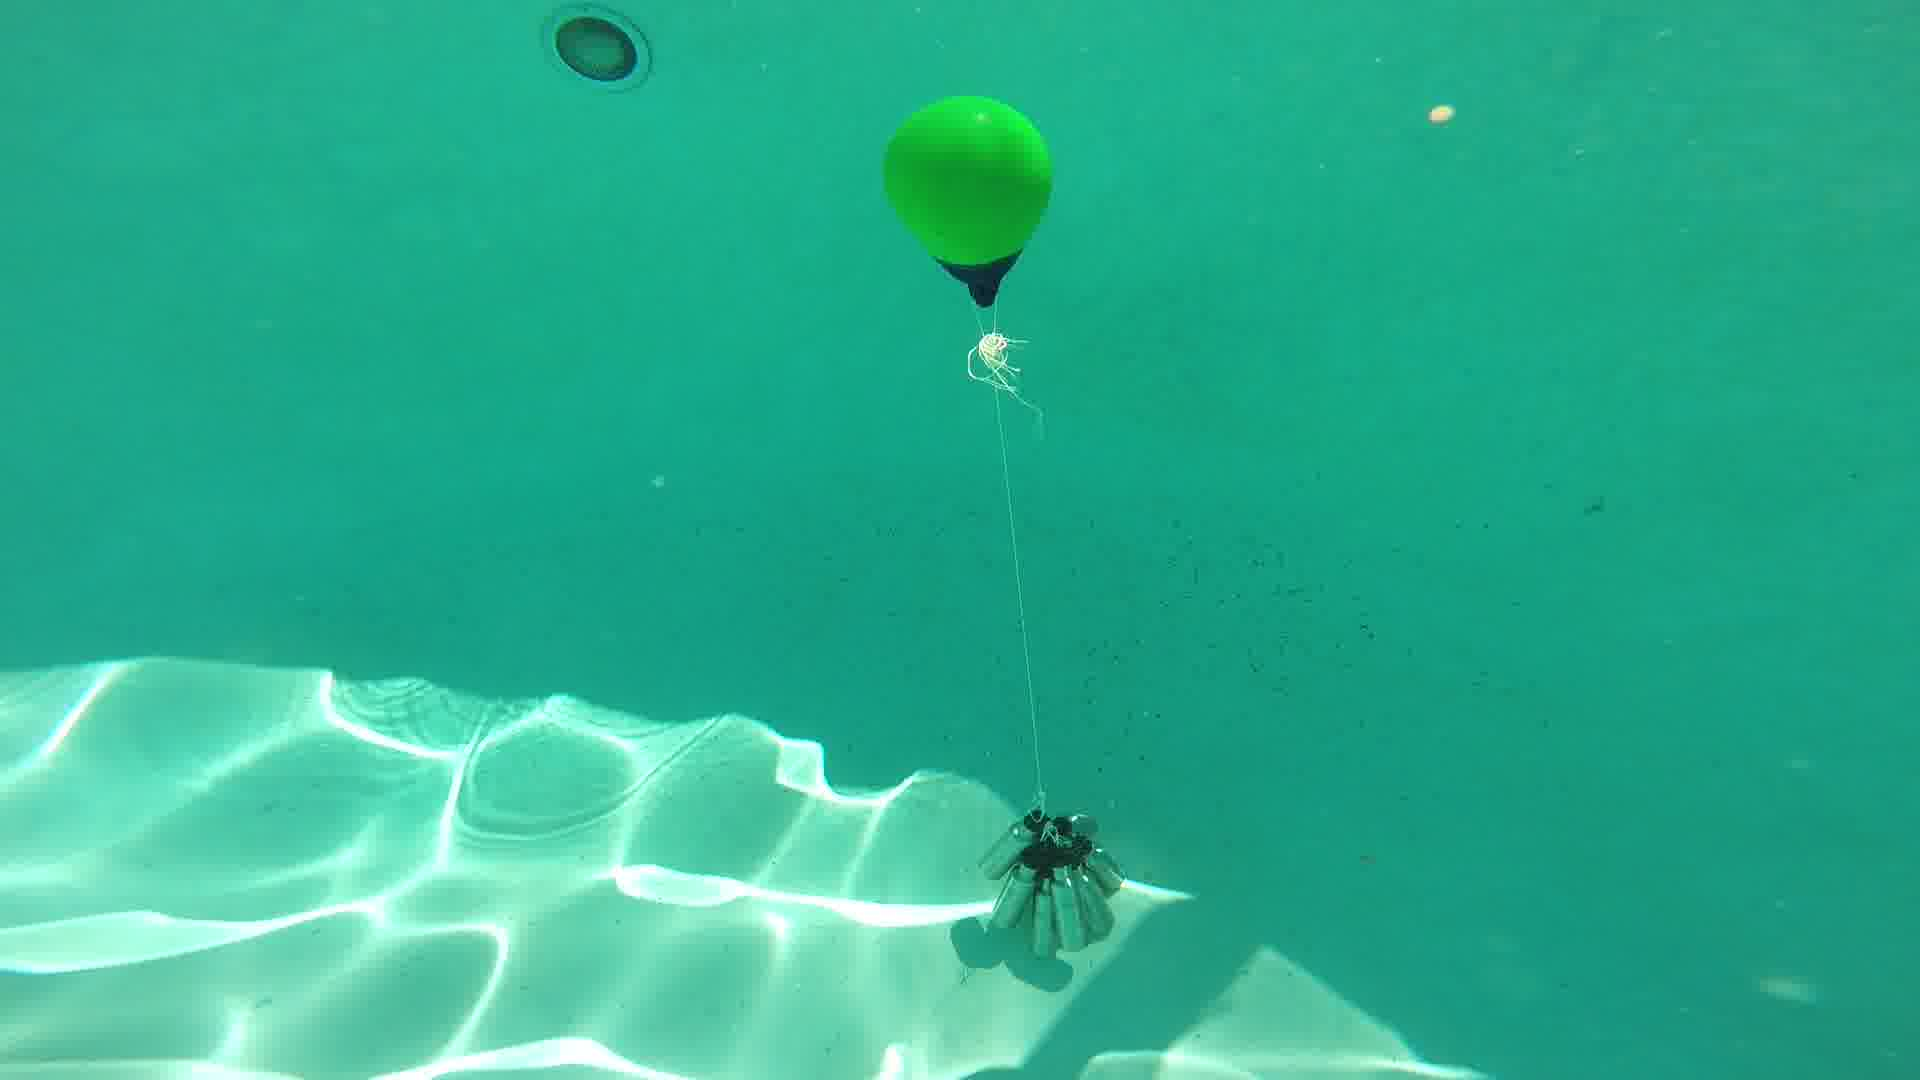yellow_buoy: (881, 94, 1054, 307)
